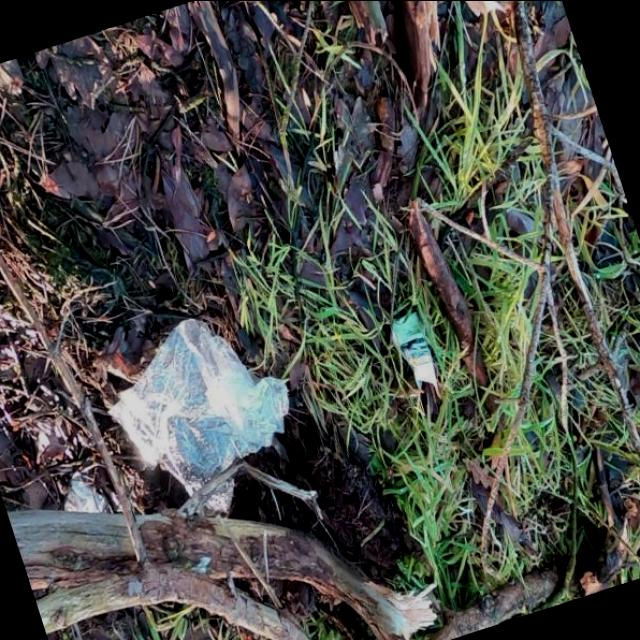Paper: (389, 311, 444, 398)
